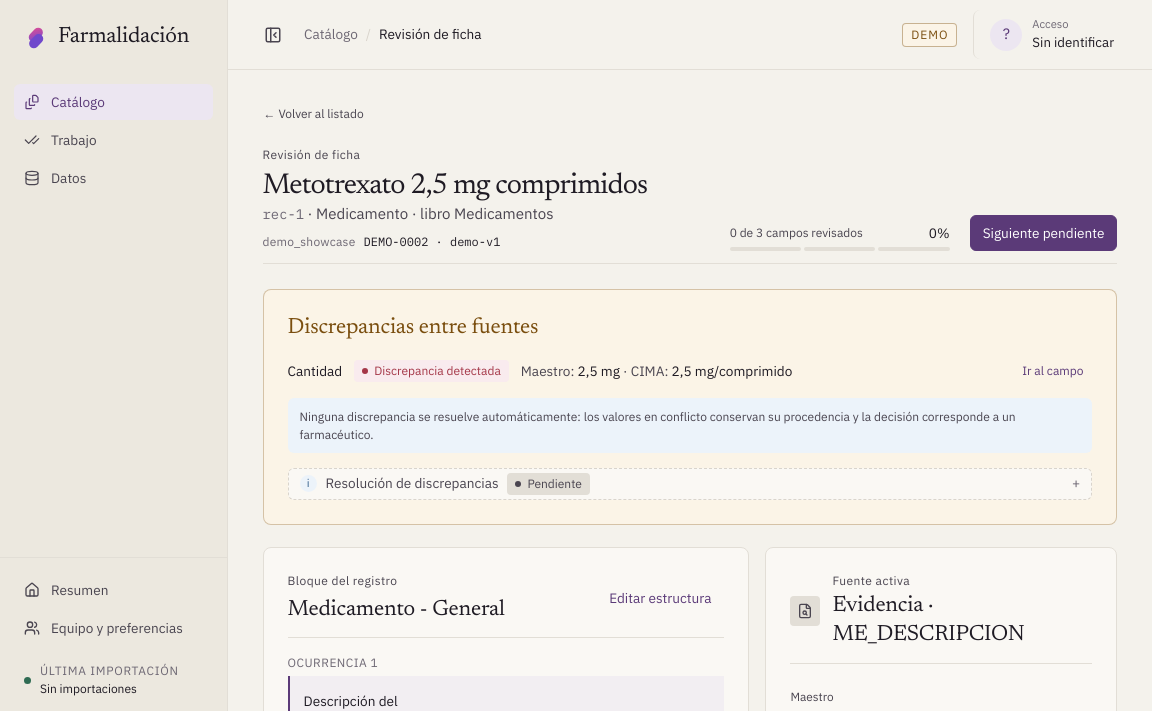
Test: Recorrido de la vertical de revisión › muestra cada valor con su fuente y la discrepancia sin resolverla
Expected: the heading "Metotrexato 2,5 mg comprimidos" is shown, [262, 170, 706, 203]
Expected: the text "Discrepancia detectada" is shown, [354, 360, 509, 382]
Click the button "i Resolución de discrepancias Pendiente +".
click(412, 483)  # box [288, 468, 1091, 498]
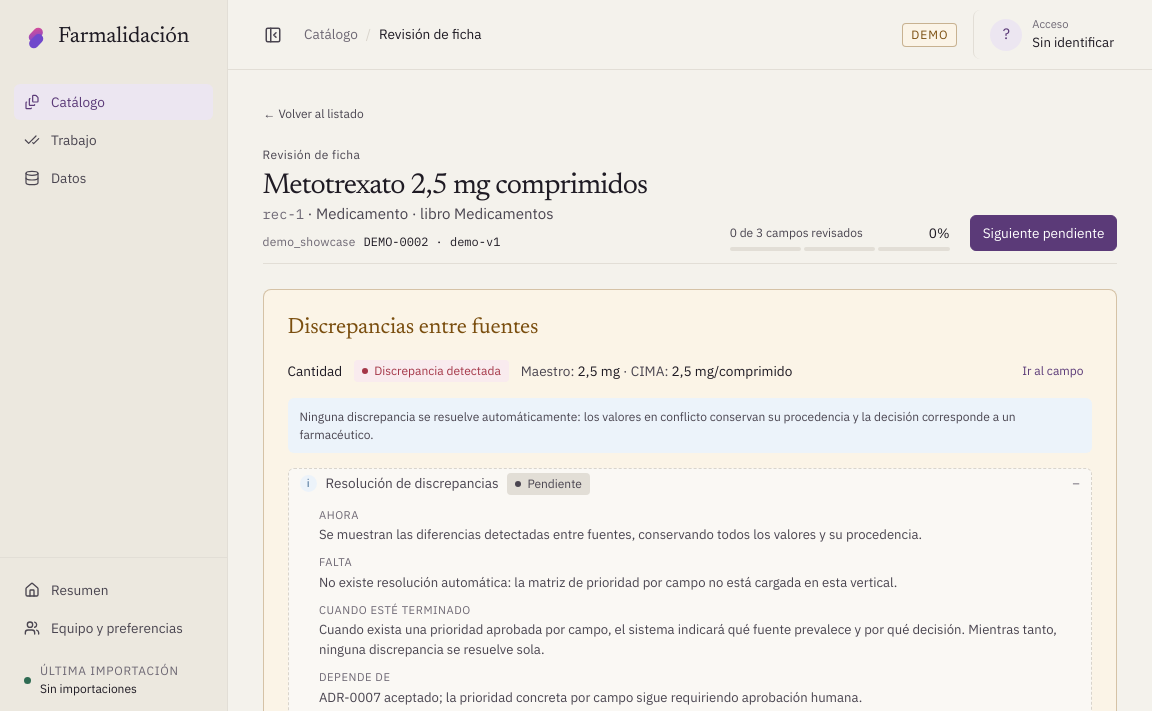
Now the text "ADR-0007 aceptado" is shown, box [319, 689, 862, 706]
